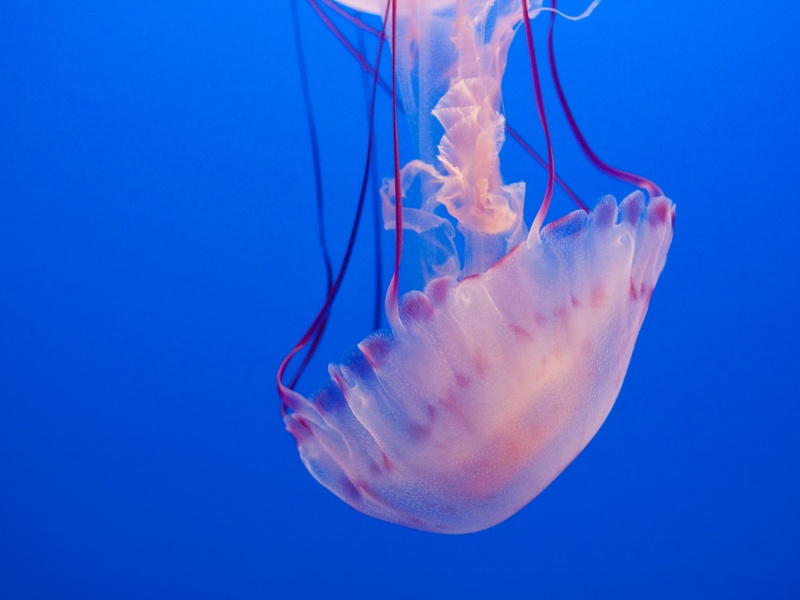Jellyfish: (273, 0, 677, 534)
